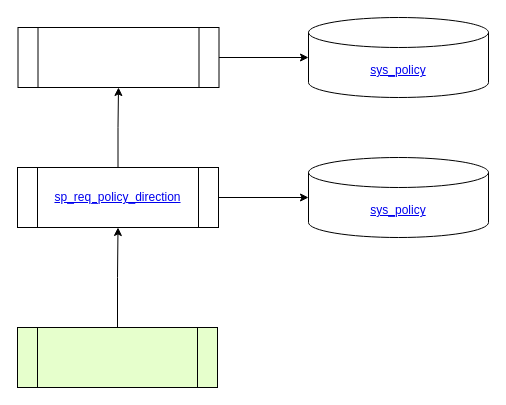
This 506x405 diagram has some shape labels left out. Each missing label, with the centre of its shape:
"sp_req_policy_exists" goes at [118,57].
"sp_req_use_same_phone" goes at [117,357].
